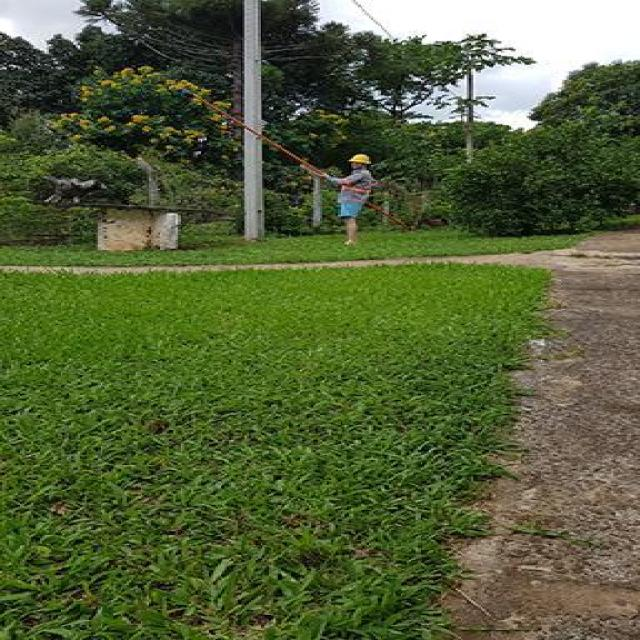helmet: (345, 152, 371, 172)
